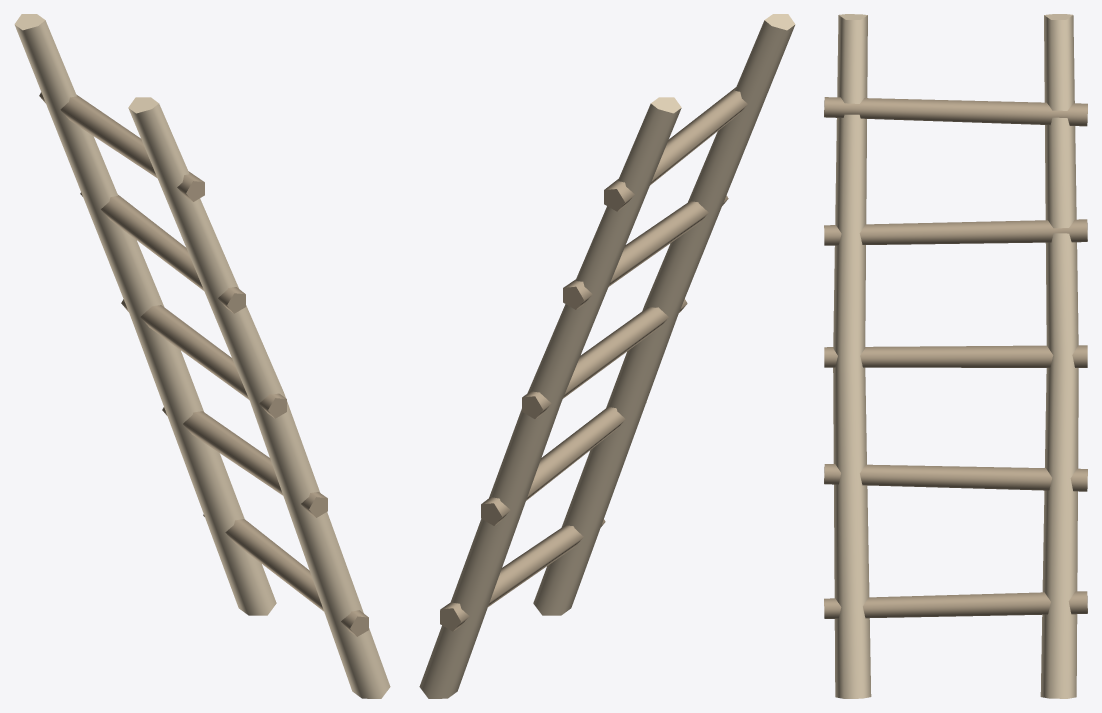
File: building.ladder.glb
3 renders of one model, left to right at view 1: azimuth 30°, elevation 25°; view 2: azimuth 150°, elevation 25°; view 3: azimuth 270°, elevation 25°, orthographic. The views are drawn at different scales.
Visible parts, largest first — view 1: Paint, PaintDark; view 2: Paint, PaintDark; view 3: Paint, PaintDark.
Part boxes in pixels (x1,y1,x2,y2): Paint: (14,14,390,698); PaintDark: (39,92,368,636); Paint: (419,14,795,698); PaintDark: (440,87,747,631); Paint: (833,14,1078,698); PaintDark: (824,97,1087,618).
Bounding box in the file's own units: 0.4116 × 1 × 0.4111.
